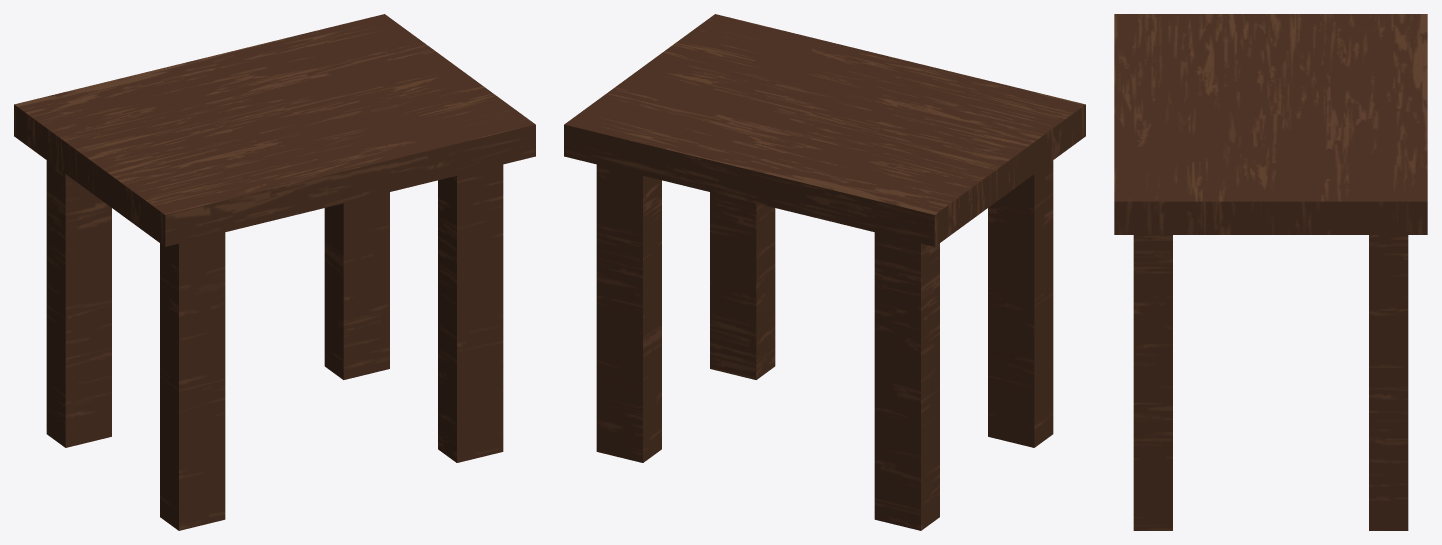
Rendered from Mesa.fbx.
The picture shows the model from 3 angles, left to right: view 1: azimuth 30°, elevation 25°; view 2: azimuth 150°, elevation 25°; view 3: azimuth 270°, elevation 25°; orthographic projection. The views are drawn at different scales.
Visible parts, largest first — view 1: Box001; view 2: Box001; view 3: Box001.
Part boxes in pixels (box(x1,y1,x2,y2)): Box001: box(14, 14, 535, 530); Box001: box(564, 14, 1085, 530); Box001: box(1114, 14, 1427, 530).
Size of the model in its own units: 0.85 by 0.72 by 0.6.
